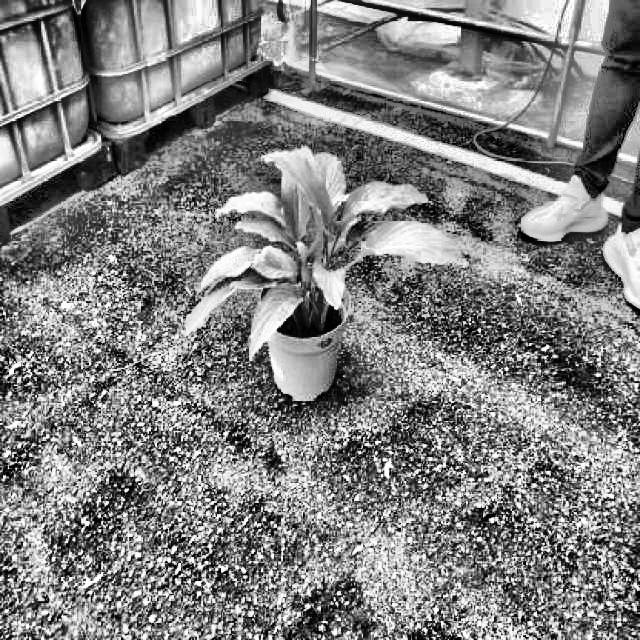plants: (183, 150, 469, 368)
